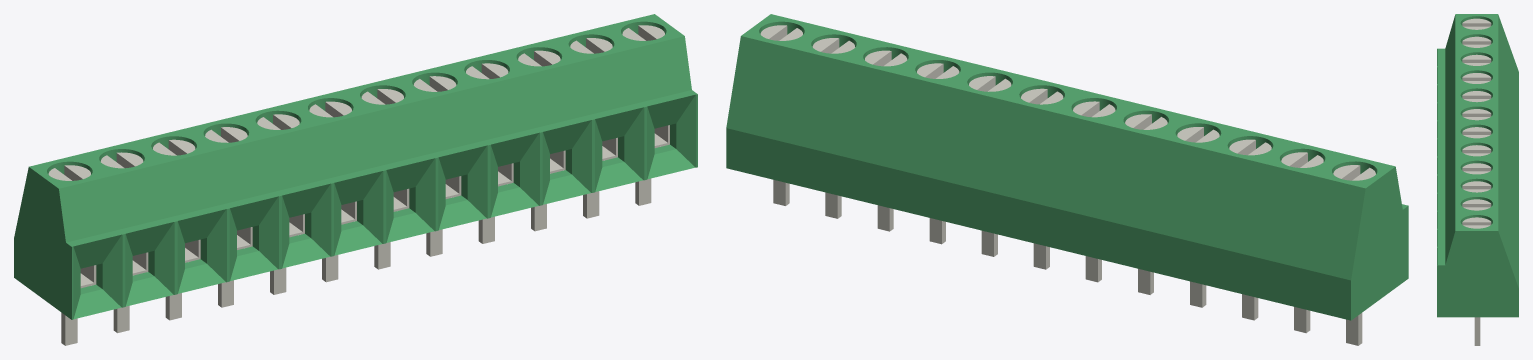
Rendered from kc-terminalblock_phoenix_mkds-1-12-3.81_1x12_p3.81mm_horizontal.glb.
The picture shows the model from 3 angles, left to right: view 1: azimuth 30°, elevation 25°; view 2: azimuth 150°, elevation 25°; view 3: azimuth 270°, elevation 25°; orthographic projection. The views are drawn at different scales.
Visible parts, largest first — view 1: 0.08333333333333333_0.4166666666666667_0.16666666666666666_0, 0.6666666666666666_0.6666666666666666_0.5833333333333334_0.8; view 2: 0.08333333333333333_0.4166666666666667_0.16666666666666666_0, 0.6666666666666666_0.6666666666666666_0.5833333333333334_0.8; view 3: 0.08333333333333333_0.4166666666666667_0.16666666666666666_0, 0.6666666666666666_0.6666666666666666_0.5833333333333334_0.8.
Boxes of the visible parts, bbox=[...] form: 0.08333333333333333_0.4166666666666667_0.16666666666666666_0: bbox=[14, 14, 697, 319]; 0.6666666666666666_0.6666666666666666_0.5833333333333334_0.8: bbox=[48, 25, 669, 345]; 0.08333333333333333_0.4166666666666667_0.16666666666666666_0: bbox=[726, 14, 1408, 320]; 0.6666666666666666_0.6666666666666666_0.5833333333333334_0.8: bbox=[760, 25, 1375, 345]; 0.08333333333333333_0.4166666666666667_0.16666666666666666_0: bbox=[1437, 14, 1518, 317]; 0.6666666666666666_0.6666666666666666_0.5833333333333334_0.8: bbox=[1462, 18, 1491, 345].
Size of the model in its own units: 4.57 by 1.2 by 0.73.
